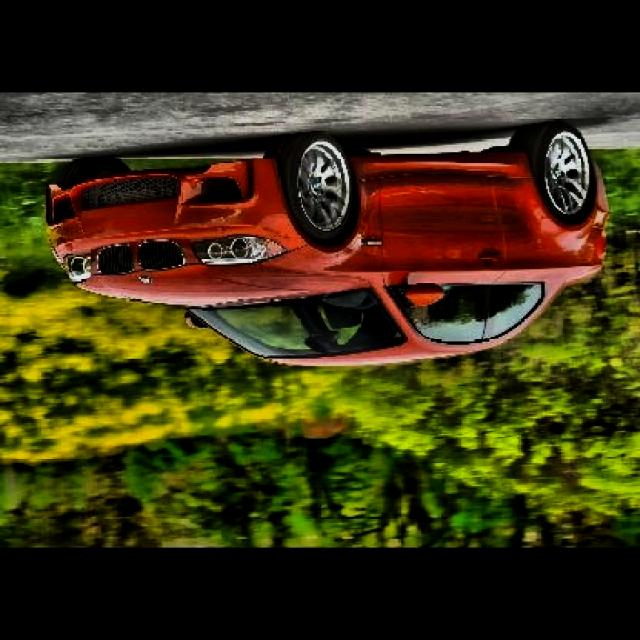red: (59, 124, 597, 367)
